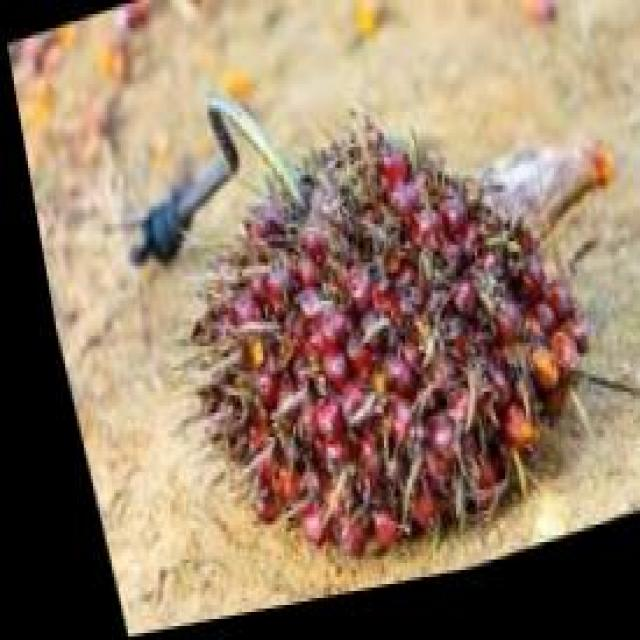Ripefruit: (120, 70, 615, 619)
